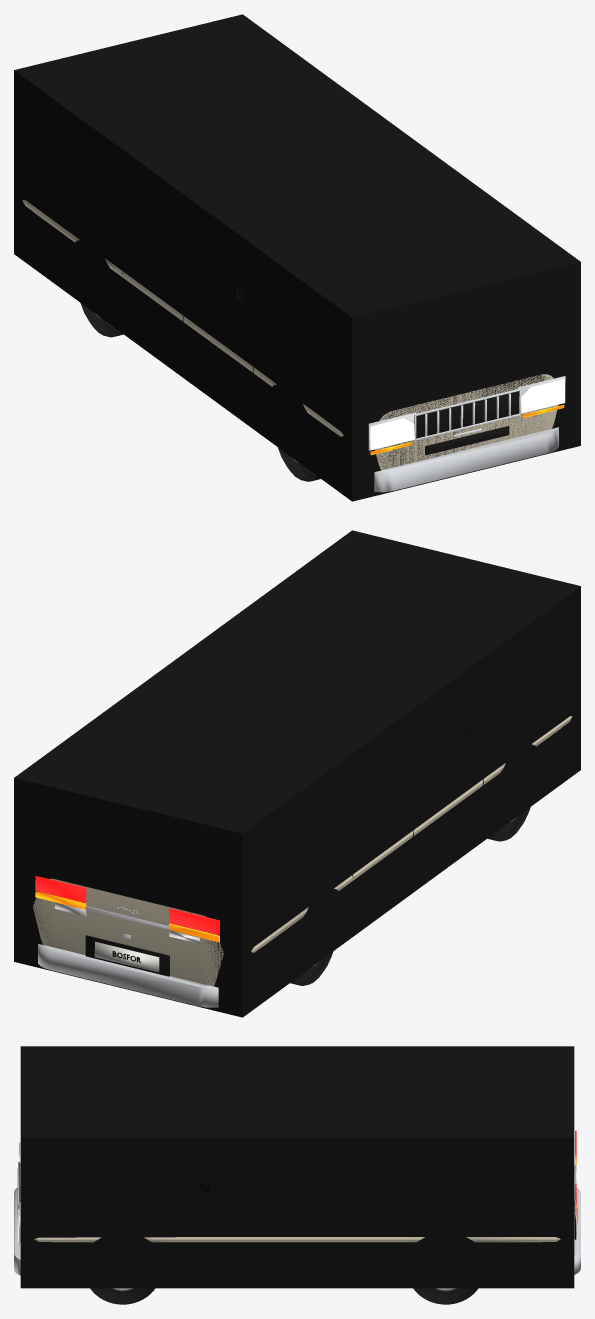
Rendered from atmaca_stock_lod1.glb.
3 renders of one model, top to bottom at view 1: azimuth 30°, elevation 25°; view 2: azimuth 150°, elevation 25°; view 3: azimuth 270°, elevation 25°, orthographic. The views are drawn at different scales.
Parts seen in each view (by area): view 1: col_body, trim, body, lights_front; view 2: col_body, body, trim, lights_rear, plate_rear; view 3: col_body, body, trim, wheel_RL, wheel_FL.
Part boxes in pixels (x1,y1,x2,y2): col_body: (14, 14, 580, 501); trim: (122, 269, 565, 492); body: (22, 200, 558, 470); lights_front: (370, 379, 564, 455); col_body: (14, 530, 580, 1017); body: (33, 716, 572, 986); trim: (38, 719, 483, 1007); lights_rear: (35, 876, 219, 943); plate_rear: (94, 941, 159, 972); col_body: (20, 1046, 574, 1288); body: (34, 1237, 560, 1242); trim: (14, 1143, 580, 1275); wheel_RL: (413, 1288, 478, 1304); wheel_FL: (90, 1288, 154, 1304).
Size of the model in its own units: 1.66 by 1.43 by 4.3.
